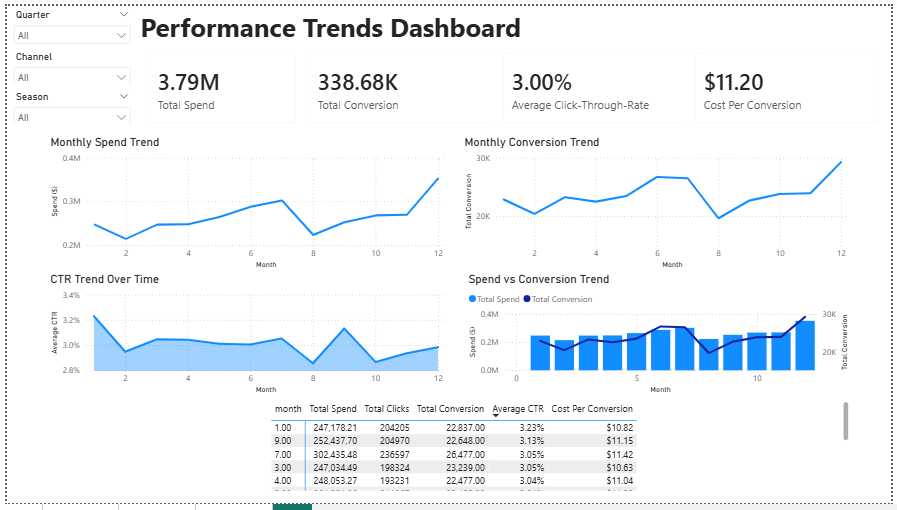

This screenshot's page, from the dashboard's own definition file:
{"tool":"powerbi","page":{"name":"Page 4","canvas":[1280,720],"ordinal":3},"visuals":[{"type":"textbox","box":[188.6,0,1091.5,73.4],"z":0},{"type":"cardVisual","fields":{"Data":["key measures.Total Conversion"]},"box":[420.5,50.4,301,136.8],"z":2000},{"type":"cardVisual","fields":{"Data":["key measures.Average CTR"]},"box":[701.3,50.4,301,136.8],"z":3000},{"type":"cardVisual","fields":{"Data":["key measures.Cost Per Conversion"]},"box":[979.2,50.4,301,136.8],"z":4000},{"type":"lineChart","title":"Monthly Spend Trend","fields":{"Category":["public dim_date.month"],"Y":["key measures.Total Spend"]},"box":[57.6,187.2,581.8,198.7],"z":5000},{"type":"lineChart","title":"Monthly Conversion Trend","fields":{"Category":["public dim_date.month"],"Y":["key measures.Total Conversion"]},"box":[658.1,187.2,565.9,198.7],"z":6000},{"type":"areaChart","title":"CTR Trend Over Time","fields":{"Category":["public dim_date.month"],"Y":["key measures.Average CTR"]},"box":[57.6,385.9,581.8,181.4],"z":7000},{"type":"lineClusteredColumnComboChart","title":"Spend vs Conversion Trend","fields":{"Category":["public dim_date.month"],"Y":["key measures.Total Spend"],"Y2":["key measures.Total Conversion"]},"box":[663.8,385.9,560.2,181.4],"z":8000},{"type":"pivotTable","fields":{"Rows":["public dim_date.month"],"Values":["key measures.Total Spend","key measures.Total Clicks","key measures.Total Conversion","key measures.Average CTR","key measures.Cost Per Conversion"]},"box":[378,567.8,846.6,139.4],"z":9000},{"type":"slicer","fields":{"Values":["public dim_date.quarter"]},"box":[0,0,188.6,60.5],"z":9001},{"type":"slicer","fields":{"Values":["public dim_channel.channel"]},"box":[0,60.5,188.6,53.3],"z":9002},{"type":"slicer","fields":{"Values":["public dim_campaign.season"]},"box":[0,119.5,188.6,53.3],"z":9003},{"type":"cardVisual","fields":{"Data":["key measures.Total Spend"]},"box":[188.6,50.4,247.7,136.8],"z":9004}]}

Visuals, with their boxes in screenshot pixels (x1, y1, x2, y2), scaled from the page's 1280x720 canvas onto the 897x510 screenshot:
textbox: (132,0,896,52)
cardVisual - key measures.Total Conversion: (295,36,506,133)
cardVisual - key measures.Average CTR: (491,36,702,133)
cardVisual - key measures.Cost Per Conversion: (686,36,896,133)
"Monthly Spend Trend" lineChart: (40,133,448,273)
"Monthly Conversion Trend" lineChart: (461,133,858,273)
"CTR Trend Over Time" areaChart: (40,273,448,402)
"Spend vs Conversion Trend" lineClusteredColumnComboChart: (465,273,858,402)
pivotTable - public dim_date.month x key measures.Total Spend: (265,402,858,501)
slicer - public dim_date.quarter: (0,0,132,43)
slicer - public dim_channel.channel: (0,43,132,81)
slicer - public dim_campaign.season: (0,85,132,122)
cardVisual - key measures.Total Spend: (132,36,306,133)
